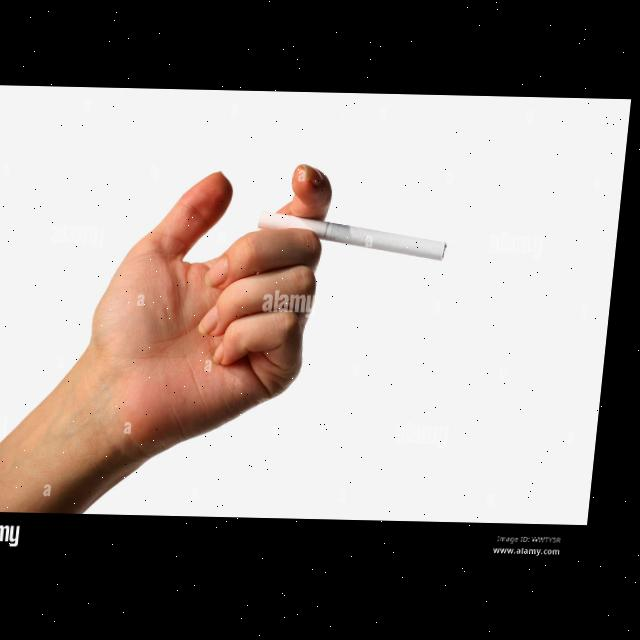cigarette: (261, 210, 454, 259)
